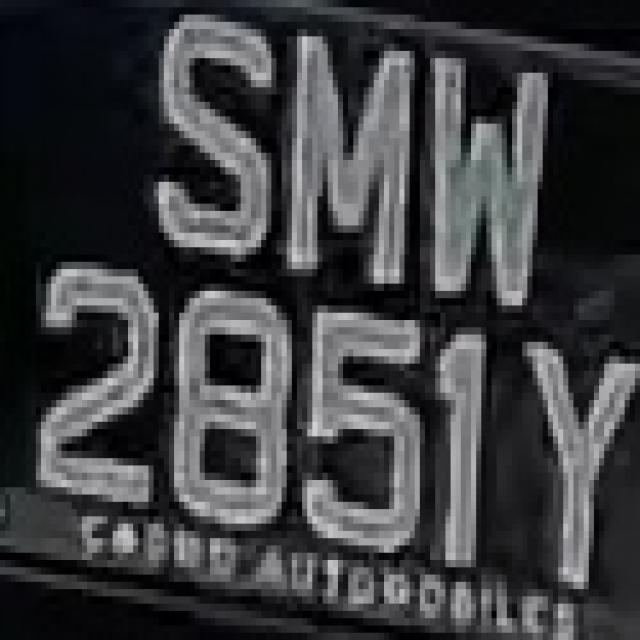1: (441, 291, 492, 582)
2: (31, 240, 164, 531)
5: (297, 262, 430, 567)
8: (164, 240, 307, 545)
M: (276, 15, 425, 298)
S: (133, 15, 292, 298)
W: (394, 22, 558, 305)
Y: (517, 284, 630, 632)
